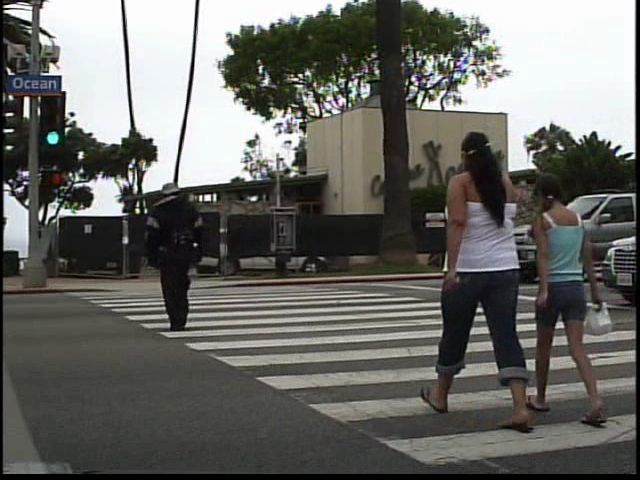person: (429, 122, 543, 438), (544, 163, 615, 432), (140, 173, 211, 340)
